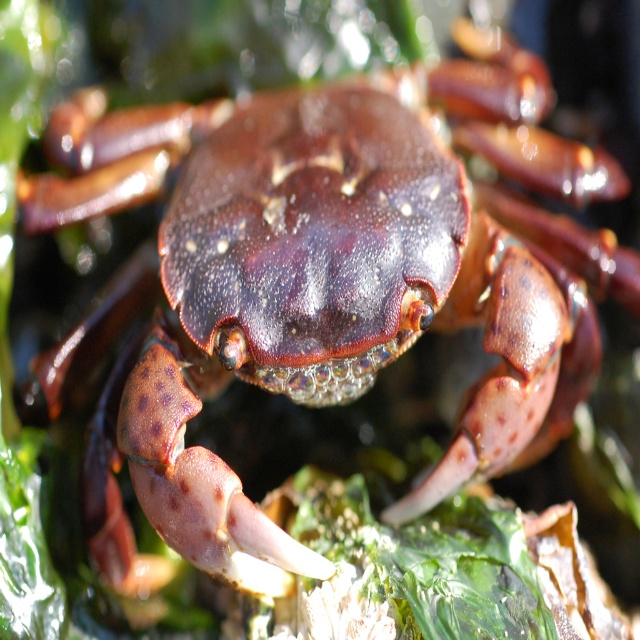Crab: (15, 15, 640, 630)
